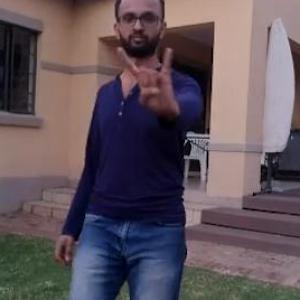takeoff-hand: (117, 38, 179, 125)
